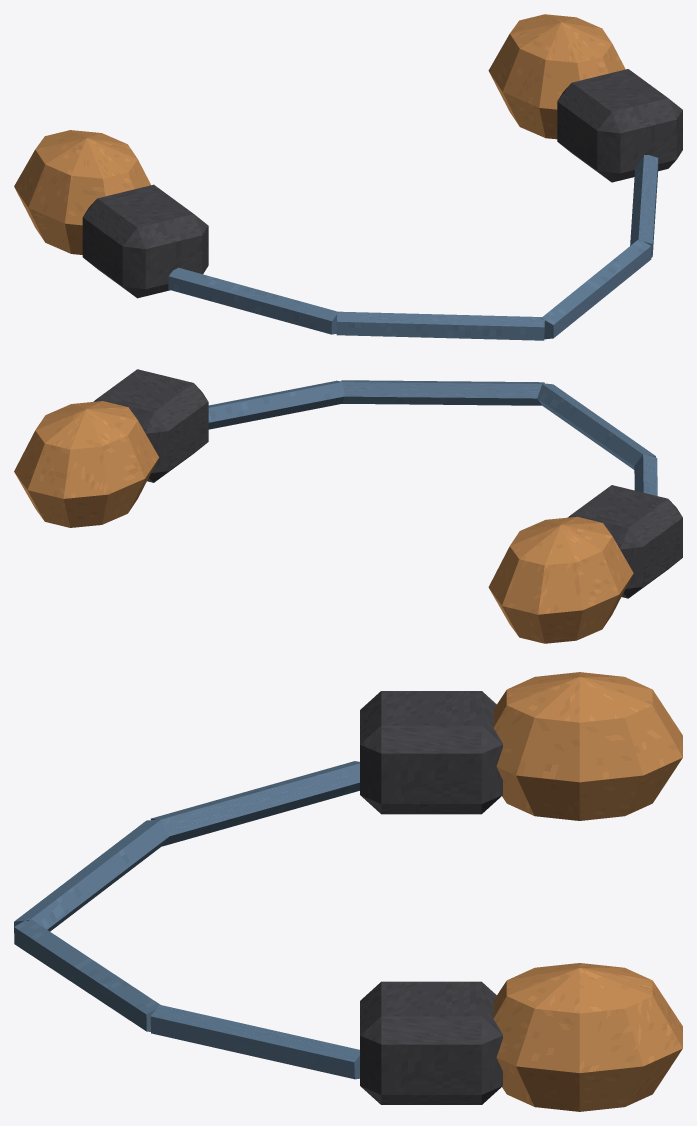
File: attached_ear_plugs_off.glb
3 renders of one model, top to bottom at view 1: azimuth 30°, elevation 25°; view 2: azimuth 150°, elevation 25°; view 3: azimuth 270°, elevation 25°, orthographic. The views are drawn at different scales.
Parts seen in each view (by area): view 1: block_plug handle (×2), block_earplug tip (×2), block_retaining cord 1, block_retaining cord 0, block_retaining cord 2, block_retaining cord 3; view 2: block_earplug tip (×2), block_plug handle (×2), block_retaining cord 2, block_retaining cord 3, block_retaining cord 1, block_retaining cord 0; view 3: block_earplug tip (×2), block_plug handle (×2), block_retaining cord 3, block_retaining cord 0, block_retaining cord 2, block_retaining cord 1.
Boxes of the visible parts, bbox=[...] form: block_plug handle (×2): bbox=[82, 69, 682, 298]; block_earplug tip (×2): bbox=[14, 14, 625, 254]; block_retaining cord 1: bbox=[336, 311, 544, 340]; block_retaining cord 0: bbox=[168, 267, 338, 334]; block_retaining cord 2: bbox=[541, 239, 651, 339]; block_retaining cord 3: bbox=[630, 155, 658, 257]; block_earplug tip (×2): bbox=[14, 401, 633, 643]; block_plug handle (×2): bbox=[93, 369, 682, 598]; block_retaining cord 2: bbox=[341, 380, 544, 405]; block_retaining cord 3: bbox=[208, 380, 344, 429]; block_retaining cord 1: bbox=[537, 383, 655, 469]; block_retaining cord 0: bbox=[634, 454, 657, 495]; block_earplug tip (×2): bbox=[493, 672, 682, 1111]; block_plug handle (×2): bbox=[360, 691, 502, 1104]; block_retaining cord 3: bbox=[150, 1005, 359, 1079]; block_retaining cord 0: bbox=[150, 761, 359, 846]; block_retaining cord 2: bbox=[14, 918, 161, 1031]; block_retaining cord 1: bbox=[14, 819, 168, 932].
Bounding box in the file's own units: 0.0541 × 0.00968 × 0.0422.
Materials: 1 (1 with a texture image).
